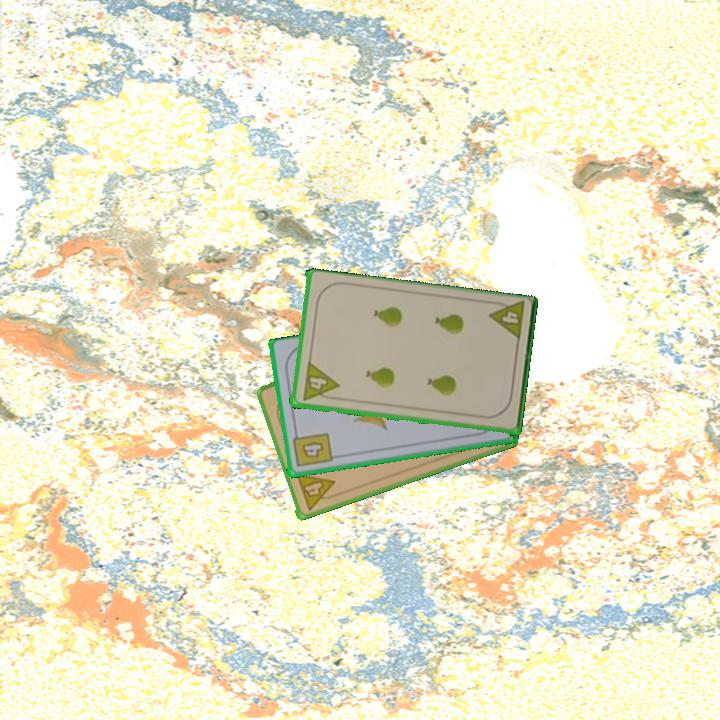4b: (289, 427, 335, 470)
4p: (293, 470, 341, 513), (485, 297, 527, 344), (299, 360, 341, 404)
